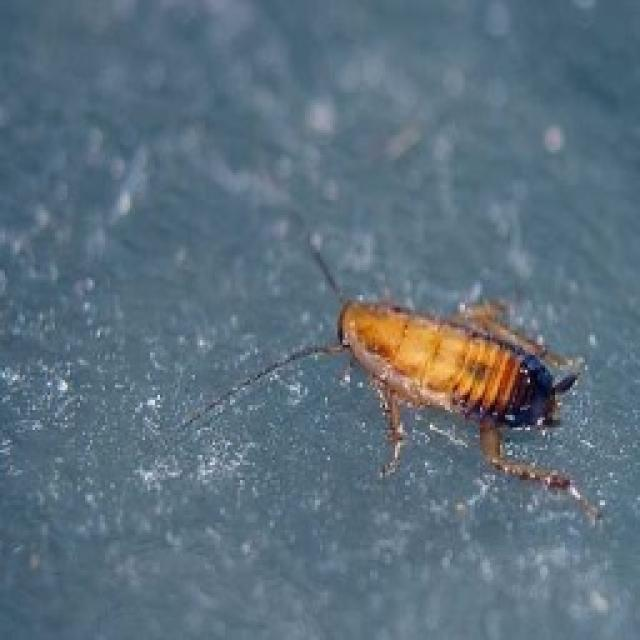cockroach: (180, 224, 607, 526)
